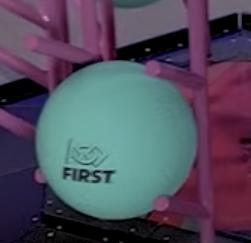algae: (35, 61, 198, 218), (114, 0, 159, 9)
